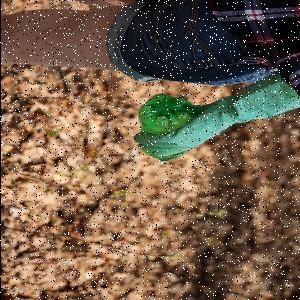Plastic-bottle: (138, 94, 196, 163)
